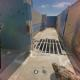Character: (51, 61, 79, 80), (40, 44, 44, 49)
Head: (52, 62, 59, 70)
